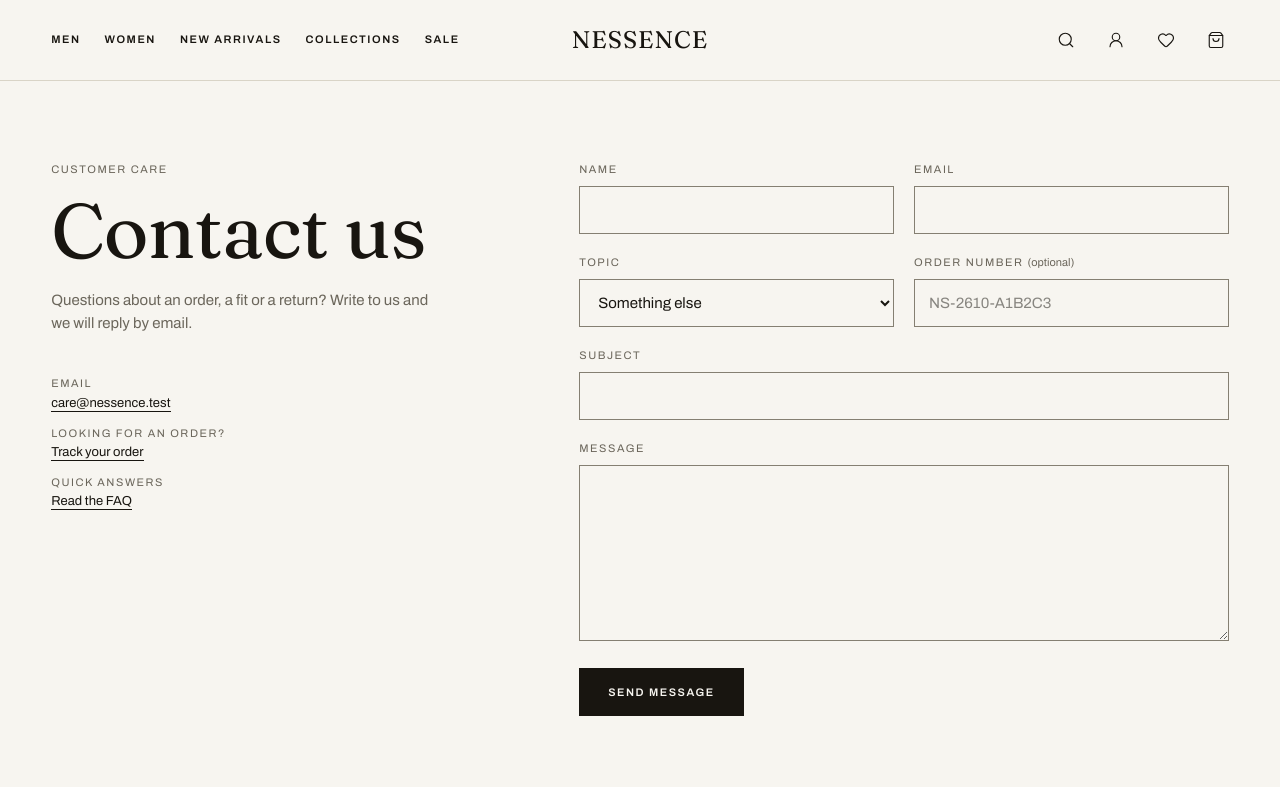
contact › submits to the backend and shows the real reference
Expected: the heading "Contact us" is shown, [51,183,426,278]
Type "Mira Shah" into the field labelled "Name" at [737, 210], box [579,186,894,234]
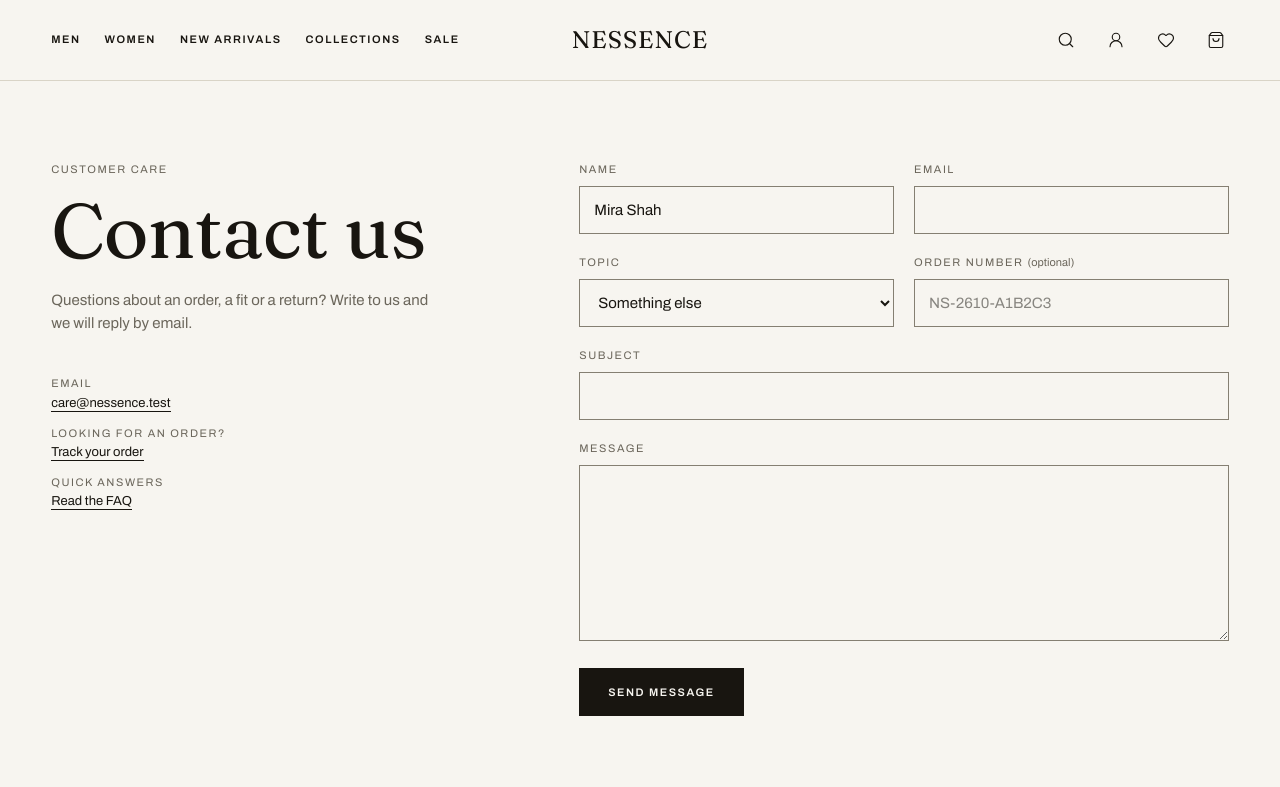
Type "mira@example.com" into the field labelled "Email" at [1071, 210], box [914,186,1229,234]
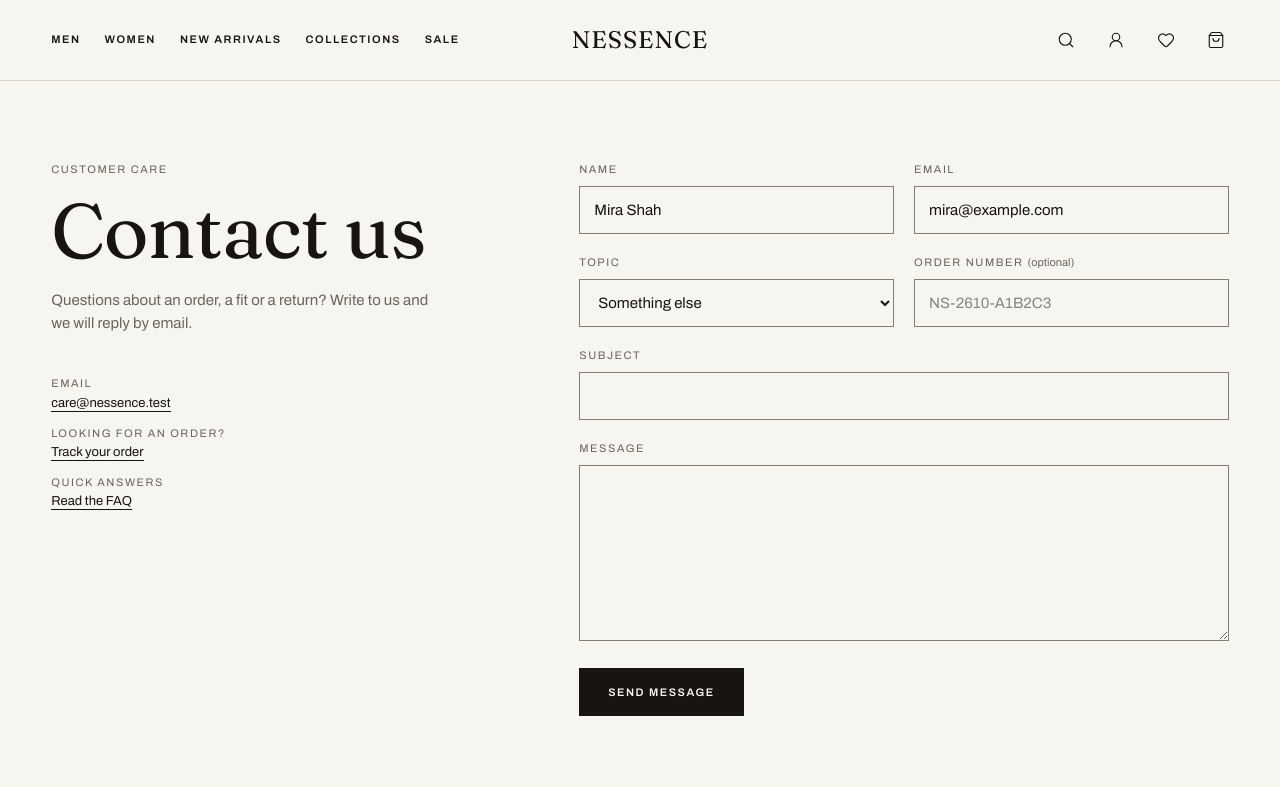
Type "Sizing help" into the field labelled "Subject" at [904, 396], box [579,372,1229,420]
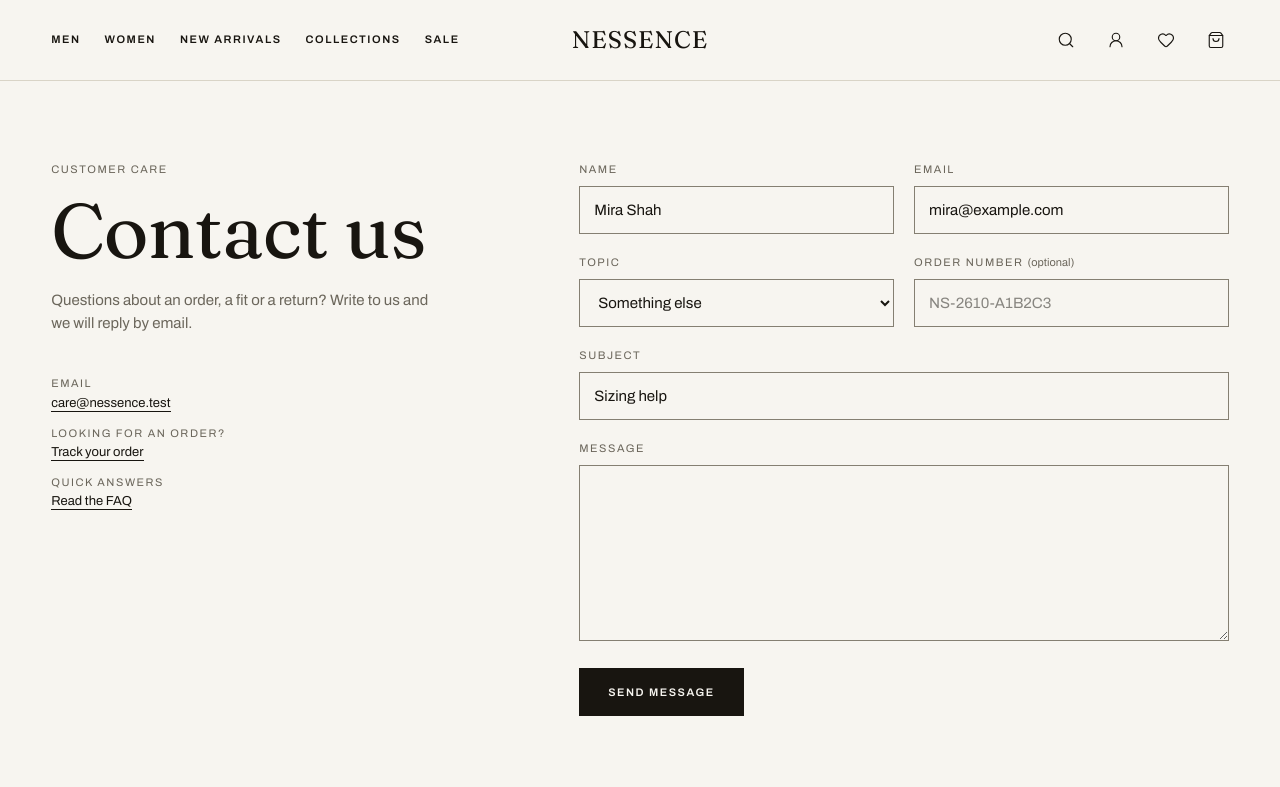
Type "Does the coat run large?" into the text box labelled "Message" at [904, 553], box [579,465,1229,641]
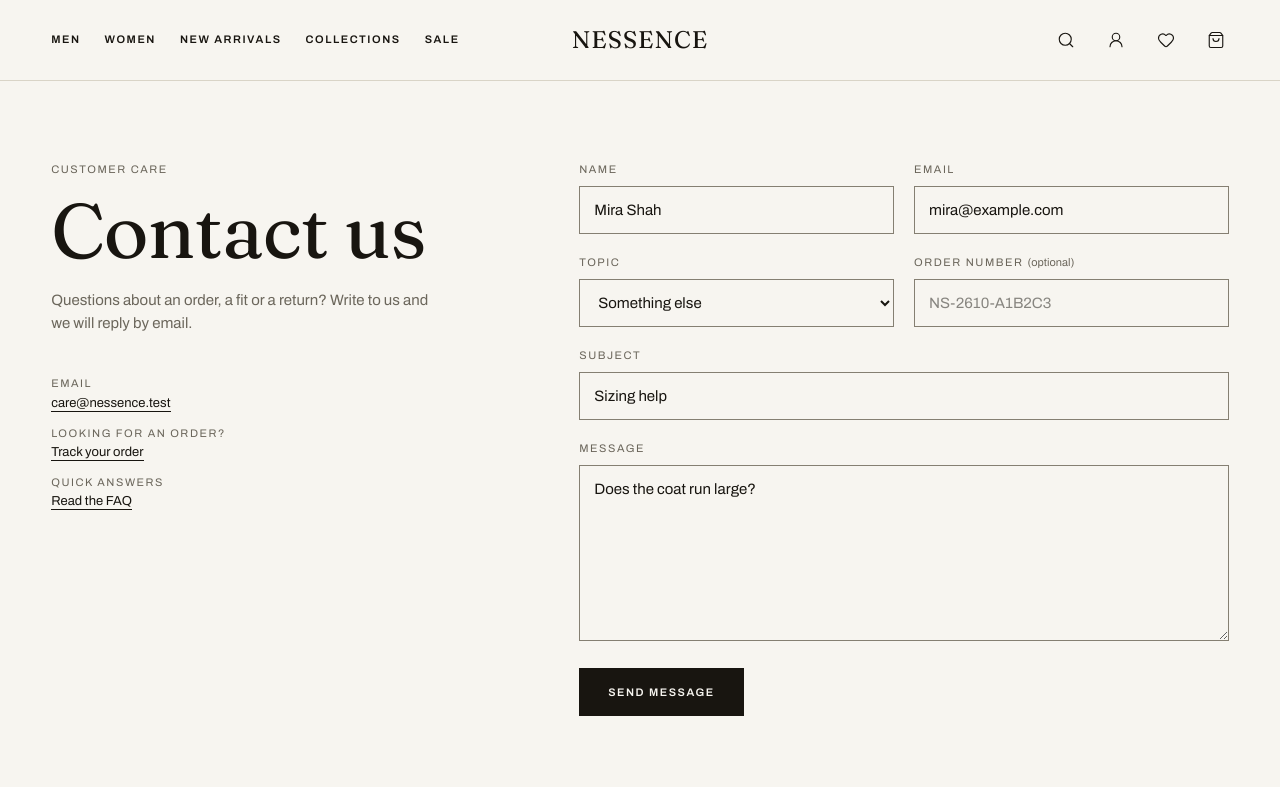
Click the button "Send message" at [662, 692], box [579,668,744,716]
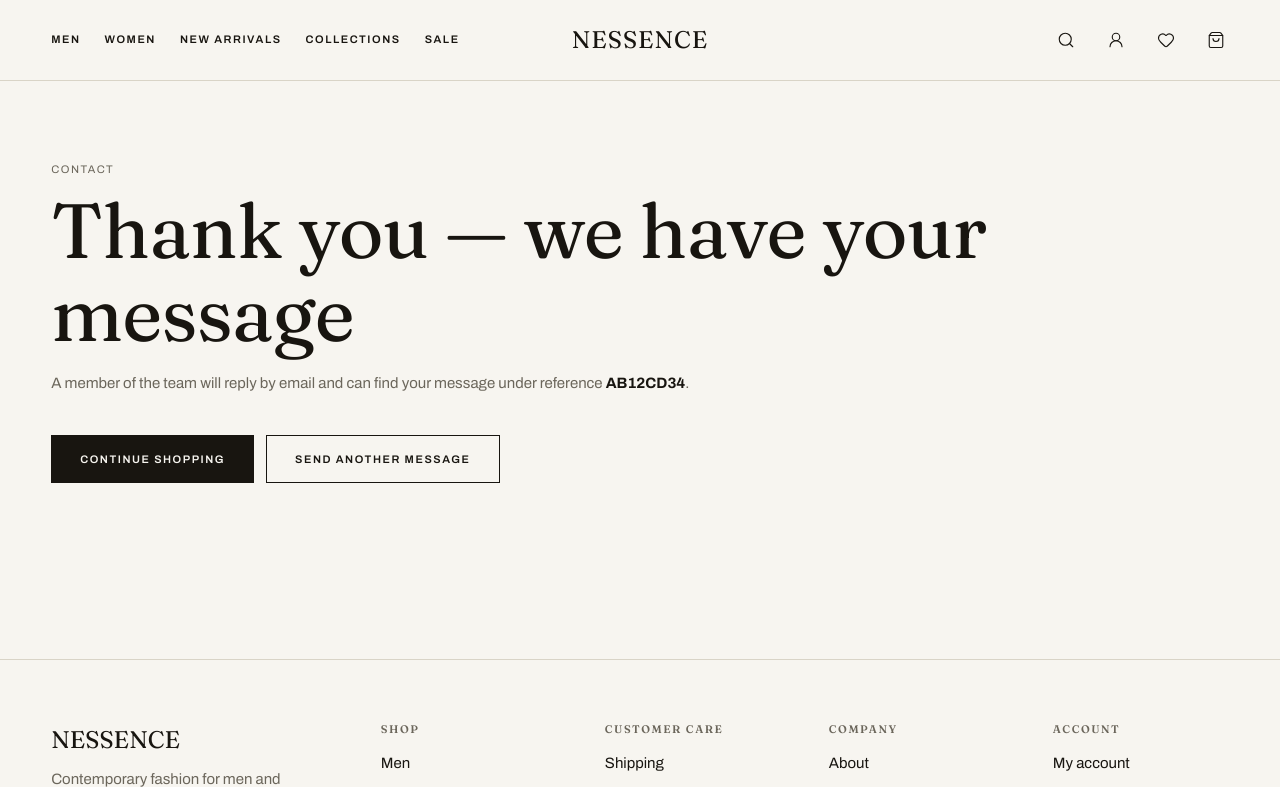
Expected: the text "AB12CD34" is shown, [606,375,685,391]
